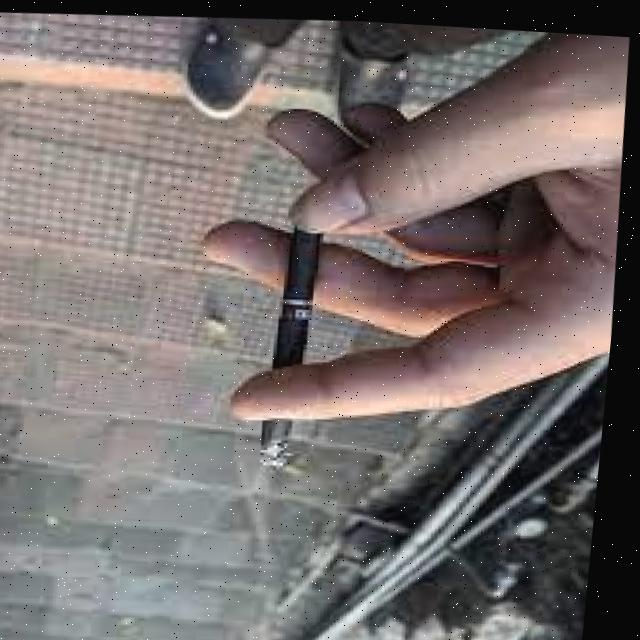cigarette: (271, 226, 326, 365)
